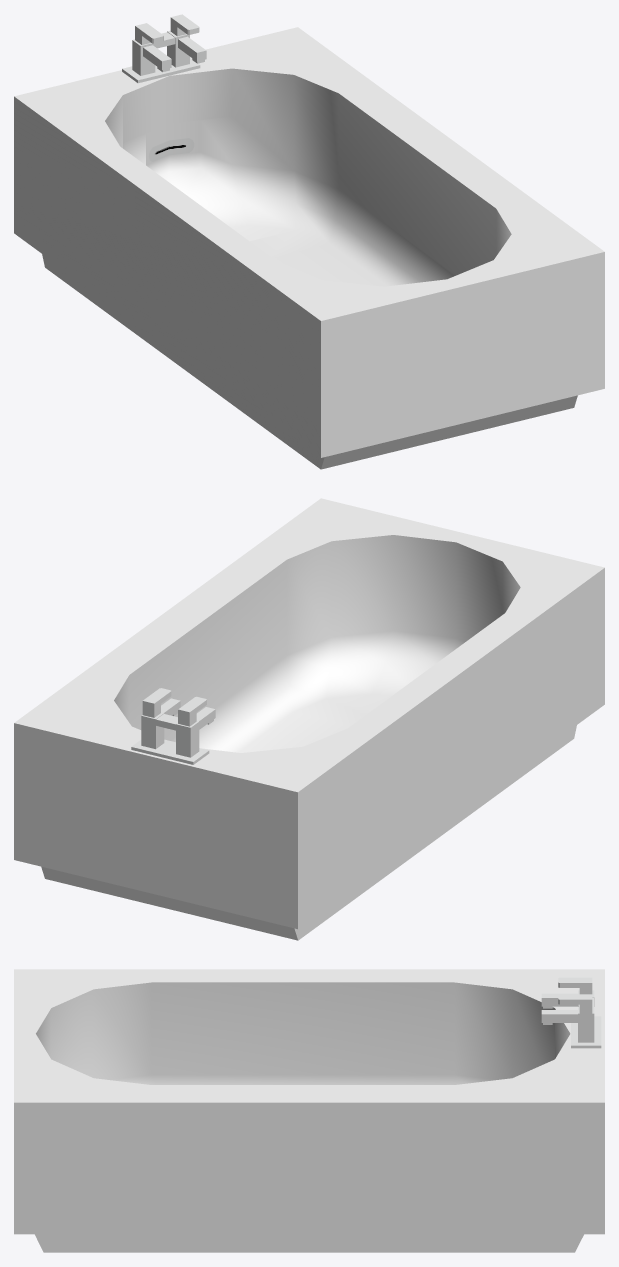
The model's file is Bathtub.fbx.
3 views of the same model, one above another, from view 1: azimuth 30°, elevation 25°; view 2: azimuth 150°, elevation 25°; view 3: azimuth 270°, elevation 25° (orthographic). The views are drawn at different scales.
Visible parts, largest first — view 1: Bathtub1_pCube53; view 2: Bathtub1_pCube53; view 3: Bathtub1_pCube53.
Boxes of the visible parts, box(x1,y1,x2,y2) form: Bathtub1_pCube53: box(14, 14, 604, 469); Bathtub1_pCube53: box(14, 498, 604, 940); Bathtub1_pCube53: box(14, 969, 604, 1252).
Bounding box in the file's own units: 104 × 73.75 × 195.
